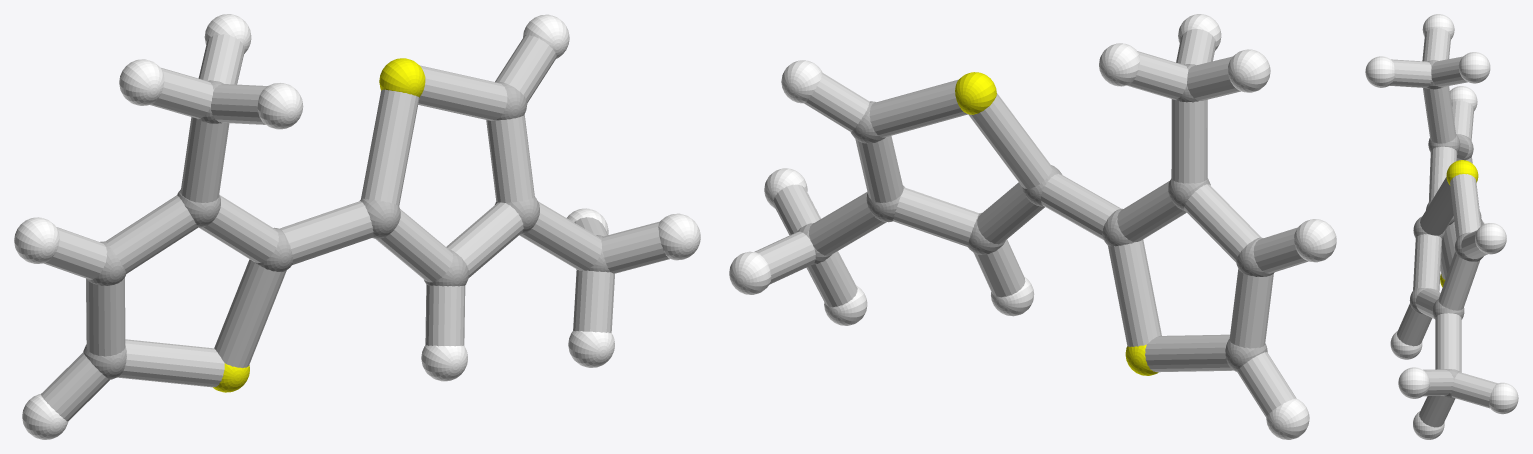
File: Methylthiophene_Phi_25_Theta_340_Methylthiophene.glb
The picture shows the model from 3 angles, left to right: view 1: azimuth 30°, elevation 25°; view 2: azimuth 150°, elevation 25°; view 3: azimuth 270°, elevation 25°; orthographic projection. The views are drawn at different scales.
Parts seen in each view (by area): view 1: grp7965, grp3621, grp1, grp7241; view 2: grp7965, grp3621, grp1, grp7241; view 3: grp7965, grp3621, grp1, grp7241.
Part boxes in pixels (bbox=[...]): grp7965: bbox=[41, 34, 669, 421]; grp3621: bbox=[14, 14, 700, 439]; grp1: bbox=[83, 80, 609, 379]; grp7241: bbox=[213, 58, 425, 392]; grp7965: bbox=[754, 29, 1308, 417]; grp3621: bbox=[729, 14, 1336, 439]; grp1: bbox=[797, 64, 1274, 371]; grp7241: bbox=[955, 72, 1158, 375]; grp7965: bbox=[1389, 28, 1497, 427]; grp3621: bbox=[1365, 14, 1518, 439]; grp1: bbox=[1409, 60, 1483, 397]; grp7241: bbox=[1440, 160, 1478, 287].
Bounding box in the file's own units: 9.55 × 5.75 × 2.88.
